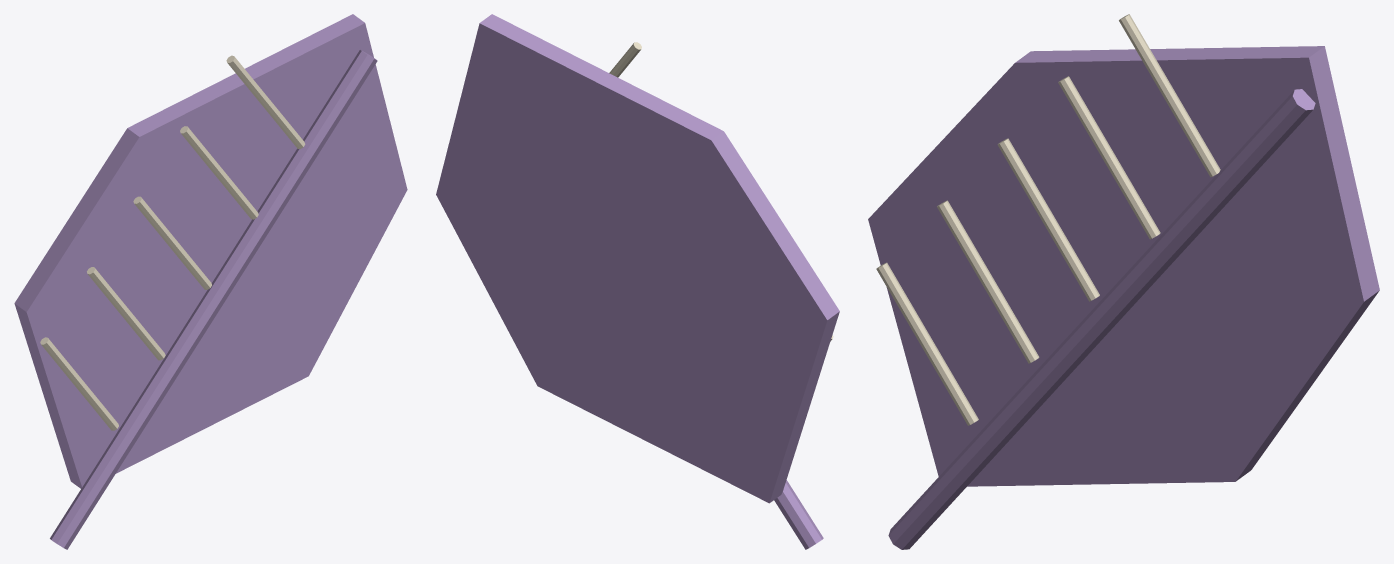
File: birds-feather.glb
3 views of the same model, side by side, from view 1: azimuth 30°, elevation 25°; view 2: azimuth 150°, elevation 25°; view 3: azimuth 330°, elevation 25° (orthographic). The views are drawn at different scales.
Visible parts, largest first — view 1: Feather vane.001, Feather quill.001, Feather barb.005; view 2: Feather vane.001, Feather quill.001; view 3: Feather vane.001, Feather quill.001, Feather barb.005.
Boxes of the visible parts, bbox=[...] form: Feather vane.001: bbox=[14, 14, 407, 488]; Feather quill.001: bbox=[50, 49, 377, 549]; Feather barb.005: bbox=[40, 55, 305, 430]; Feather vane.001: bbox=[436, 14, 839, 503]; Feather quill.001: bbox=[774, 480, 823, 549]; Feather vane.001: bbox=[868, 46, 1379, 486]; Feather quill.001: bbox=[888, 89, 1315, 549]; Feather barb.005: bbox=[876, 14, 1220, 425].
Size of the model in its own units: 0.027 by 0.0306 by 0.0026.
